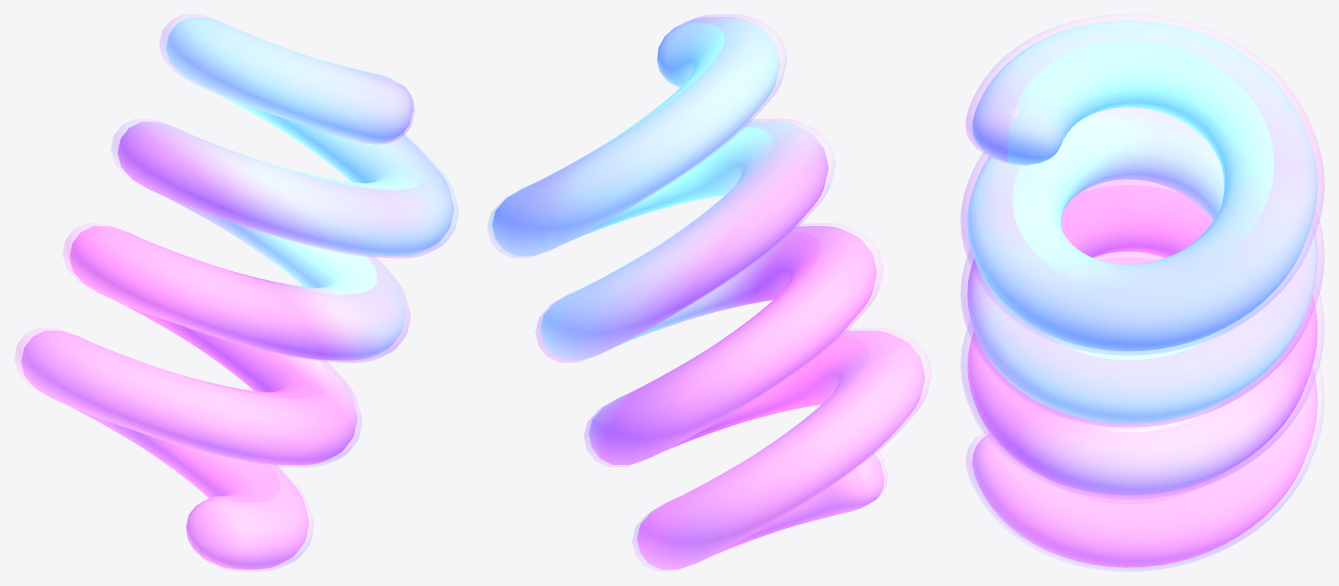
File: spiral.glb
The picture shows the model from 3 angles, left to right: view 1: azimuth 30°, elevation 25°; view 2: azimuth 150°, elevation 25°; view 3: azimuth 270°, elevation 25°; orthographic projection. The views are drawn at different scales.
Visible parts, largest first — view 1: Quadruple_Turn_Spiral_3, Quadruple_Turn_Spiral_1; view 2: Quadruple_Turn_Spiral_3, Quadruple_Turn_Spiral_1; view 3: Quadruple_Turn_Spiral_3, Quadruple_Turn_Spiral_1.
Boxes of the visible parts, left/top/right/bottom form: Quadruple_Turn_Spiral_3: left=21, top=17, right=453, bottom=569; Quadruple_Turn_Spiral_1: left=14, top=14, right=458, bottom=571; Quadruple_Turn_Spiral_3: left=492, top=17, right=924, bottom=569; Quadruple_Turn_Spiral_1: left=487, top=14, right=931, bottom=571; Quadruple_Turn_Spiral_3: left=967, top=20, right=1317, bottom=567; Quadruple_Turn_Spiral_1: left=960, top=14, right=1324, bottom=571.
Size of the model in its own units: 3.02 by 3.73 by 2.33.
2 materials, 2 textured.
